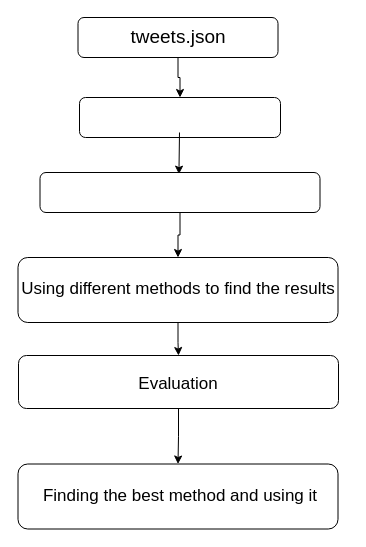
Some shapes in this 366 by 547 pixel diagram are drawn without their labels. The centre of each missing label's shape, as x and y in pixels:
"Data Engineering/ Preprocessing" goes at (x=179, y=192).
"Exracting tweets having Obama or Romney in it" goes at (x=179, y=117).
